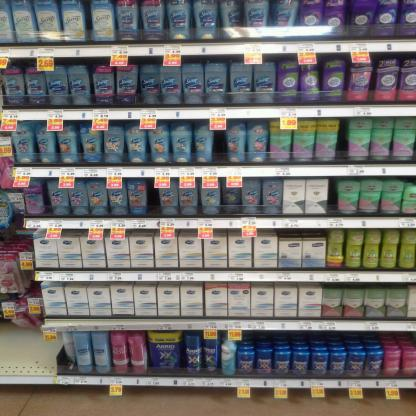Void: (0, 328, 58, 370), (217, 130, 229, 162)
